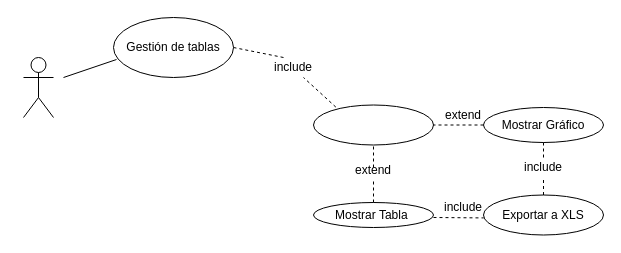
This 621x253 diagram has some shape labels left out. Here are the shapes that lost their labels. From the top down, the centre of each, then its label:
point 38,87: Invitado
point 373,124: Filtrar Valores
